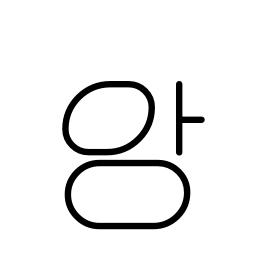Gaji: (164, 104, 194, 136)
